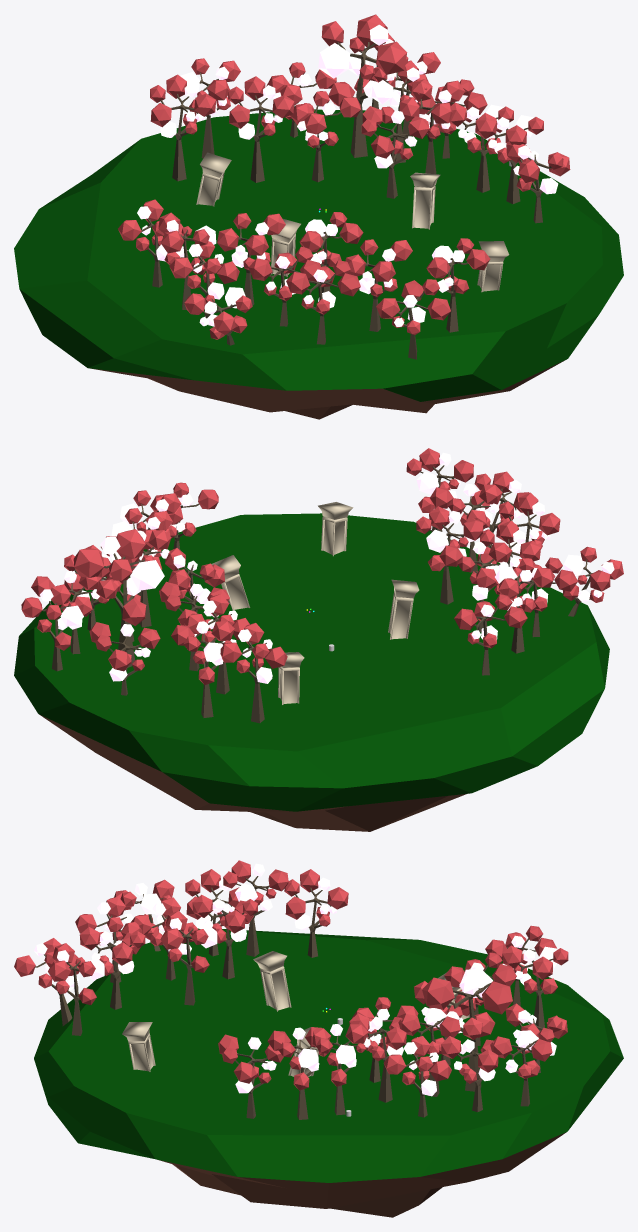
File: Puzzle Island 3 (main).fbx
3 views of the same model, one above another, from view 1: azimuth 30°, elevation 25°; view 2: azimuth 150°, elevation 25°; view 3: azimuth 270°, elevation 25° (orthographic). The views are drawn at different scales.
Parts seen in each view (by area): view 1: Icosphere, Tree 2.009, Tree 1.006, Tree 1.001, Tree 1.002, Tree 1.005, Tree 3.005, Tree 3.001, Tree 2.005, Tree 1.004, Tree 3.007, Tree 2.003 (+19 smaller); view 2: Icosphere, Tree 2.009, Tree 1.006, Tree 2.004, Tree 2.008, Tree 2.007, Tree 3.008, Tree 3, Tree 2.005, Tree 1.004, Tree 2.006, Tree 2 (+18 smaller); view 3: Icosphere, Tree 2.009, Tree 3, Tree 1.007, Tree 2.007, Tree 2.004, Tree 2.005, Tree 2, Tree 1.004, Tree 1.005, Tree 2.003, Tree 3.003 (+17 smaller).
Part boxes in pixels (left/top/right/bottom): Icosphere: left=14, top=109, right=623, bottom=419; Tree 2.009: left=318, top=14, right=407, bottom=157; Tree 1.006: left=150, top=74, right=216, bottom=181; Tree 1.001: left=228, top=76, right=294, bottom=182; Tree 1.002: left=361, top=106, right=429, bottom=198; Tree 1.005: left=345, top=239, right=412, bottom=331; Tree 3.005: left=376, top=279, right=450, bottom=359; Tree 3.001: left=290, top=91, right=360, bottom=182; Tree 2.005: left=426, top=238, right=490, bottom=332; Tree 1.004: left=217, top=213, right=285, bottom=305; Tree 3.007: left=286, top=260, right=360, bottom=344; Tree 2.003: left=449, top=102, right=513, bottom=192; Icosphere: left=14, top=513, right=609, bottom=831; Tree 2.009: left=73, top=529, right=164, bottom=667; Tree 1.006: left=220, top=623, right=287, bottom=723; Tree 2.004: left=416, top=506, right=483, bottom=604; Tree 2.008: left=21, top=584, right=83, bottom=671; Tree 2.007: left=171, top=621, right=234, bottom=717; Tree 3.008: left=89, top=622, right=160, bottom=695; Tree 3: left=454, top=594, right=527, bottom=675; Tree 2.005: left=406, top=448, right=473, bottom=532; Tree 1.004: left=439, top=542, right=512, bottom=632; Tree 2.006: left=562, top=546, right=623, bottom=616; Tree 2: left=494, top=558, right=555, bottom=653; Icosphere: left=34, top=928, right=623, bottom=1217; Tree 2.009: left=422, top=965, right=515, bottom=1091; Tree 3: left=284, top=869, right=348, bottom=957; Tree 1.007: left=383, top=1036, right=451, bottom=1117; Tree 2.007: left=502, top=945, right=568, bottom=1031; Tree 2.004: left=160, top=911, right=217, bottom=1005; Tree 2.005: left=48, top=943, right=104, bottom=1035; Tree 2: left=223, top=860, right=288, bottom=956; Tree 1.004: left=192, top=894, right=257, bottom=979; Tree 1.005: left=79, top=927, right=145, bottom=1009; Tree 2.003: left=305, top=1024, right=368, bottom=1115; Tree 3.003: left=218, top=1034, right=283, bottom=1118.
Bounding box in the file's own units: 22250 × 12450 × 23507.
